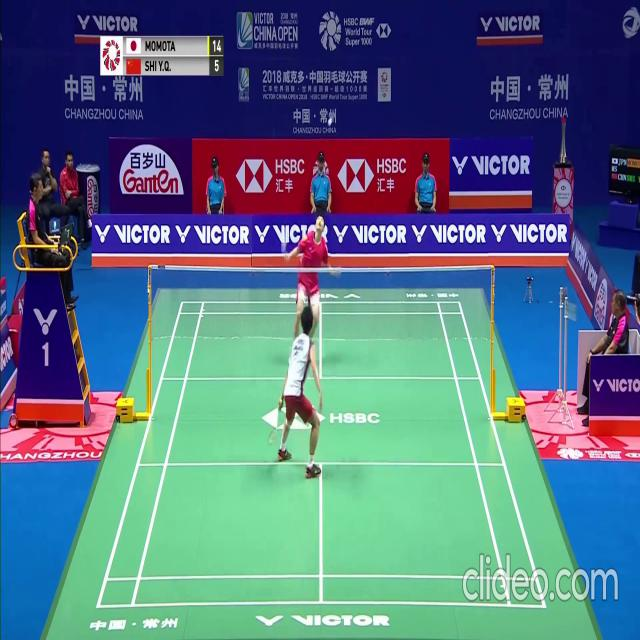Shuttlecock: (328, 117, 333, 125)
